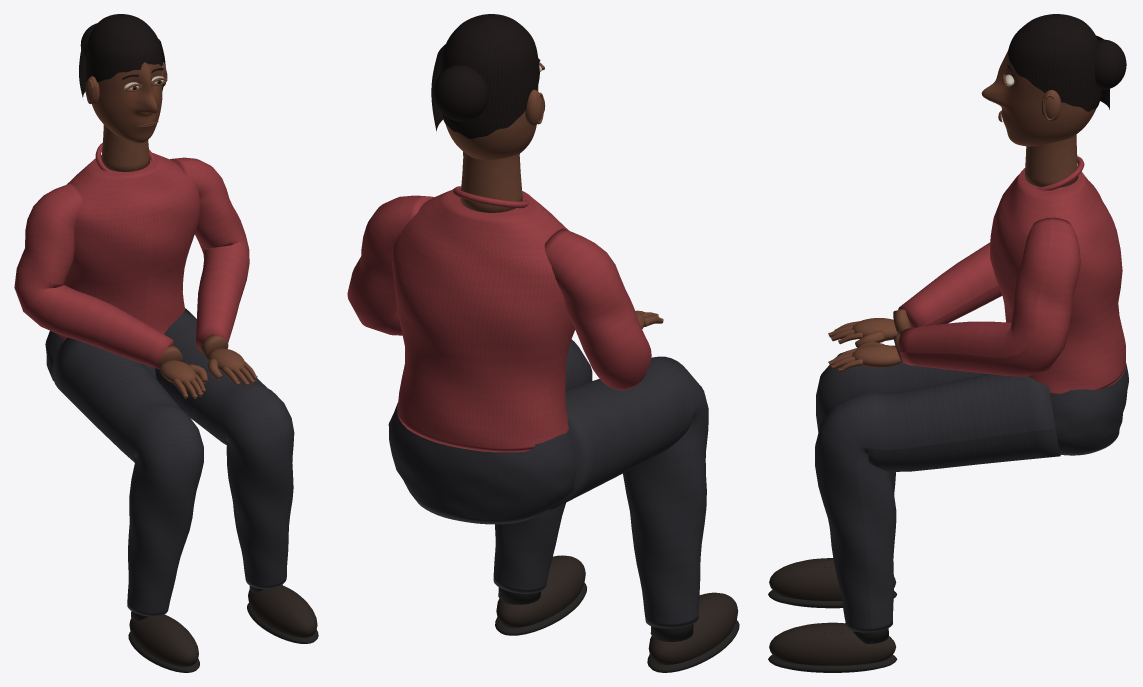
Rendered from 02_Maya.glb.
3 views of the same model, side by side, from view 1: azimuth 30°, elevation 25°; view 2: azimuth 150°, elevation 25°; view 3: azimuth 270°, elevation 25° (orthographic). The views are drawn at different scales.
Parts seen in each view (by area): view 1: top, trousers, skin, shoes, hair, face, sole; view 2: top, trousers, hair, shoes, skin, sole, face; view 3: trousers, top, hair, shoes, skin, face, sole.
Boxes of the visible parts, x1,y1,x2,y2 form: top: [14, 143, 249, 369]; trousers: [45, 308, 294, 616]; skin: [85, 62, 257, 398]; shoes: [129, 585, 317, 666]; hair: [79, 14, 165, 97]; face: [92, 62, 162, 143]; sole: [128, 584, 318, 672]; top: [347, 186, 651, 452]; trousers: [388, 339, 708, 628]; hair: [431, 14, 540, 138]; shoes: [496, 555, 738, 664]; skin: [460, 62, 663, 328]; sole: [495, 583, 739, 672]; face: [445, 85, 538, 159]; trousers: [815, 345, 1128, 632]; top: [898, 156, 1125, 393]; hair: [1007, 14, 1126, 111]; shoes: [769, 558, 896, 665]; skin: [829, 74, 1078, 372]; face: [981, 49, 1095, 146]; sole: [768, 567, 897, 672].
Bounding box in the file's own units: 0.5609 × 1.31 × 0.6925.
12 materials, 12 textured.
